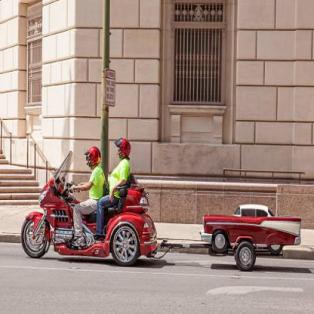Motocicleta: (18, 159, 159, 266)
